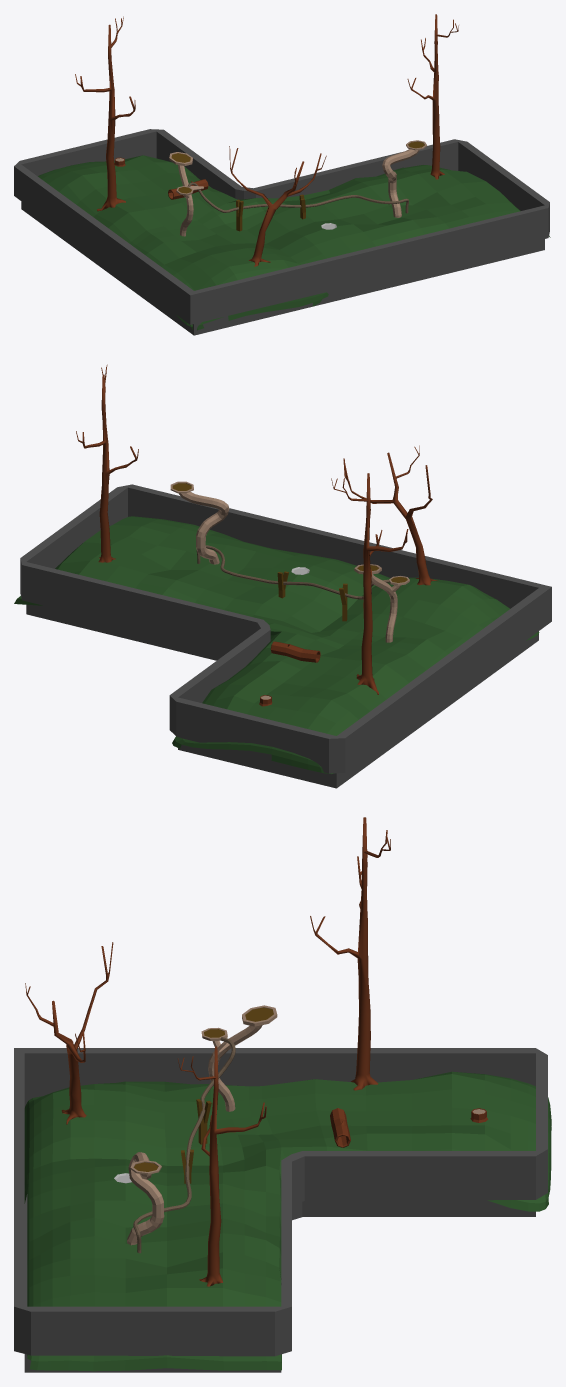
Rendered from Red_Panda_Level_1_V2.fbx.
3 views of the same model, one above another, from view 1: azimuth 30°, elevation 25°; view 2: azimuth 150°, elevation 25°; view 3: azimuth 270°, elevation 25° (orthographic). The views are drawn at different scales.
Parts seen in each view (by area): view 1: RP Cage; view 2: RP Cage; view 3: RP Cage.
Part boxes in pixels (<box>): RP Cage: <box>14,14,550,335</box>; RP Cage: <box>14,364,551,788</box>; RP Cage: <box>14,817,551,1372</box>.
Bounding box in the file's own units: 3072 × 1744 × 2627.
